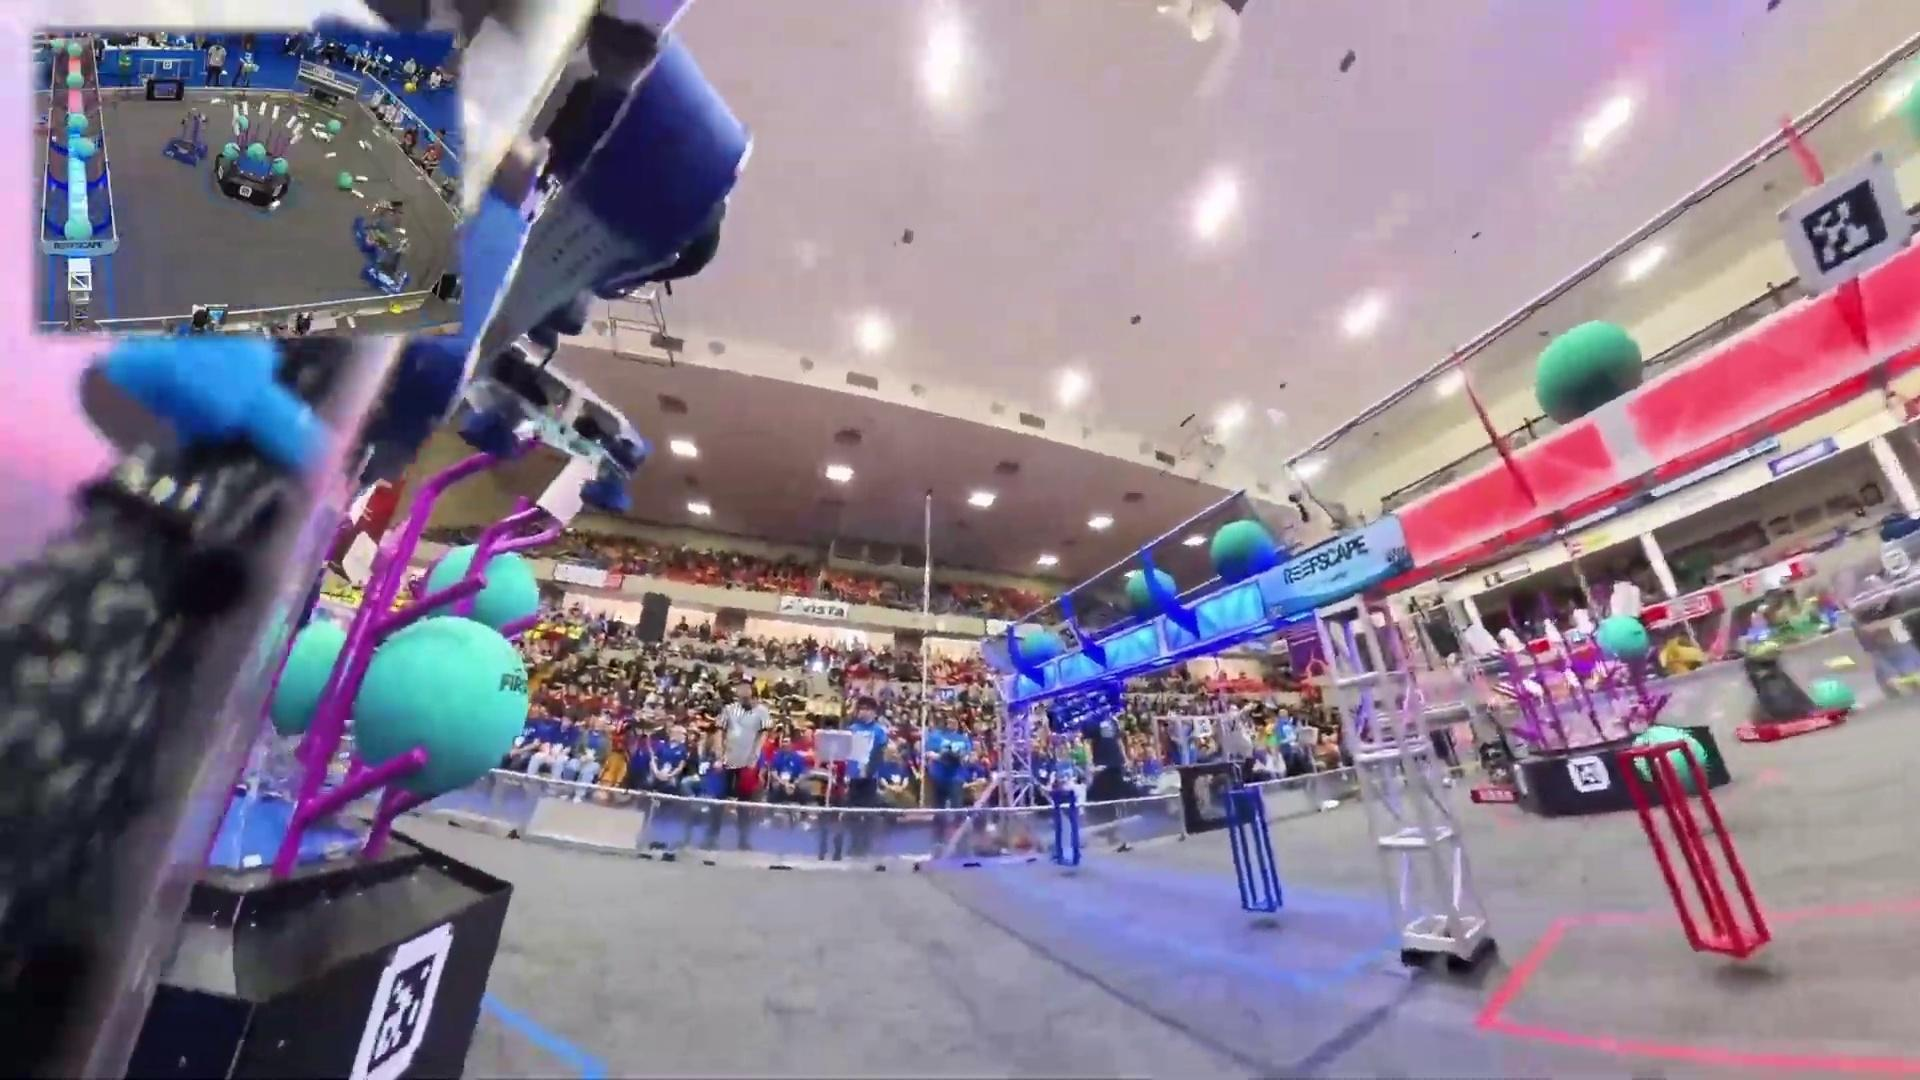robot: (1731, 644, 1846, 745), (359, 237, 410, 299), (352, 198, 405, 256), (164, 105, 212, 165)
